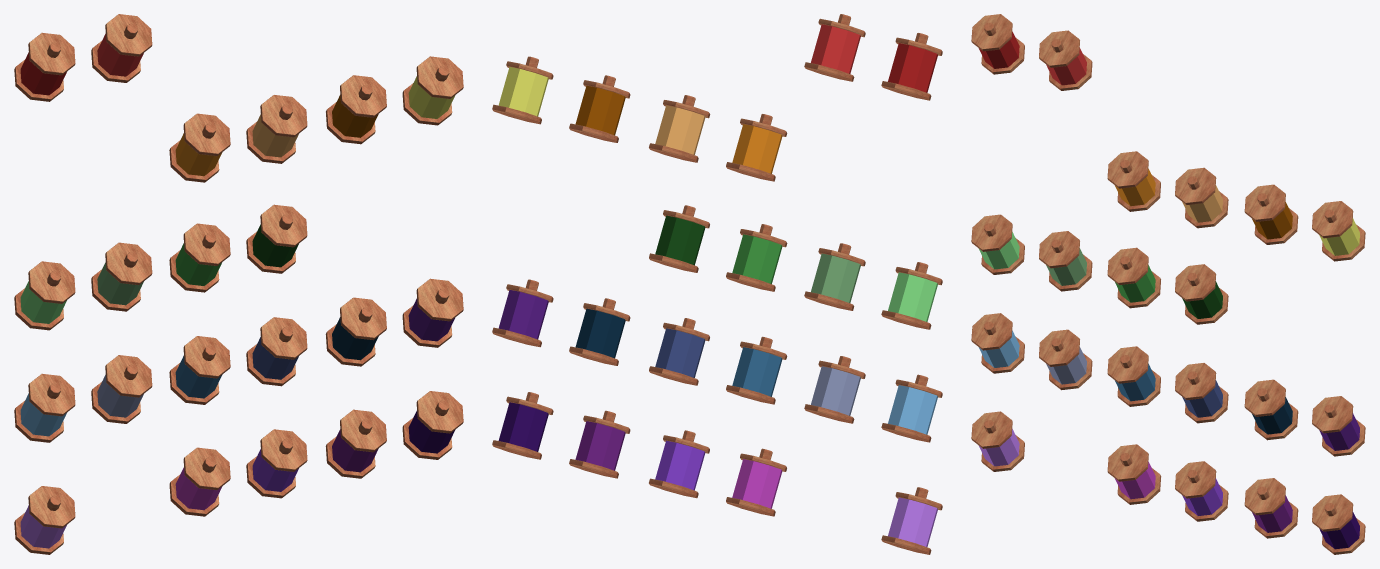
File: spools_low.fbx
The picture shows the model from 3 angles, left to right: view 1: azimuth 30°, elevation 25°; view 2: azimuth 150°, elevation 25°; view 3: azimuth 330°, elevation 25°; orthographic projection. The views are drawn at different scales.
Visible parts, largest first — view 1: spool19, spool20, spool17, spool15, spool21, spool13, spool7, spool6, spool16, spool14, spool2, spool12 (+9 smaller); view 2: spool19, spool1, spool4, spool13, spool10, spool3, spool18, spool21, spool12, spool11, spool16, spool8 (+9 smaller); view 3: spool16, spool6, spool1, spool20, spool12, spool10, spool8, spool18, spool5, spool3, spool2, spool14 (+9 smaller).
Part boxes in pixels (x1,y1,x2,y2): spool19: (402, 56, 463, 125); spool20: (14, 32, 75, 101); spool17: (246, 95, 307, 163); spool15: (246, 204, 307, 273); spool21: (91, 14, 152, 82); spool13: (91, 242, 152, 311); spool7: (91, 355, 152, 423); spool6: (14, 373, 75, 442); spool16: (169, 113, 230, 182); spool14: (169, 223, 230, 292); spool2: (169, 447, 230, 516); spool12: (14, 261, 75, 330); spool19: (492, 56, 553, 124); spool1: (881, 487, 942, 554); spool4: (569, 410, 630, 478); spool13: (804, 243, 865, 310); spool10: (569, 298, 630, 365); spool3: (649, 430, 709, 498); spool18: (569, 75, 630, 142); spool21: (804, 14, 865, 81); spool12: (881, 262, 942, 329); spool11: (492, 279, 553, 347); spool16: (726, 114, 787, 181); spool8: (726, 336, 787, 404); spool16: (1107, 151, 1160, 211); spool6: (971, 313, 1024, 373); spool1: (971, 411, 1024, 471); spool20: (971, 14, 1024, 74); spool12: (971, 214, 1024, 274); spool10: (1244, 379, 1298, 440); spool8: (1107, 346, 1160, 406); spool18: (1244, 184, 1298, 244); spool5: (1312, 494, 1365, 554); spool3: (1175, 461, 1228, 521); spool2: (1107, 444, 1161, 504); spool14: (1107, 247, 1160, 308).
Bounding box in the file's own units: 11.76 × 13.36 × 1.68.
